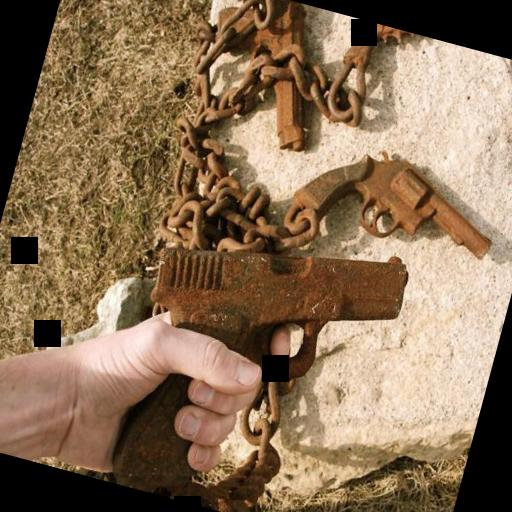Handgun: (97, 197, 414, 512), (278, 124, 512, 278)
